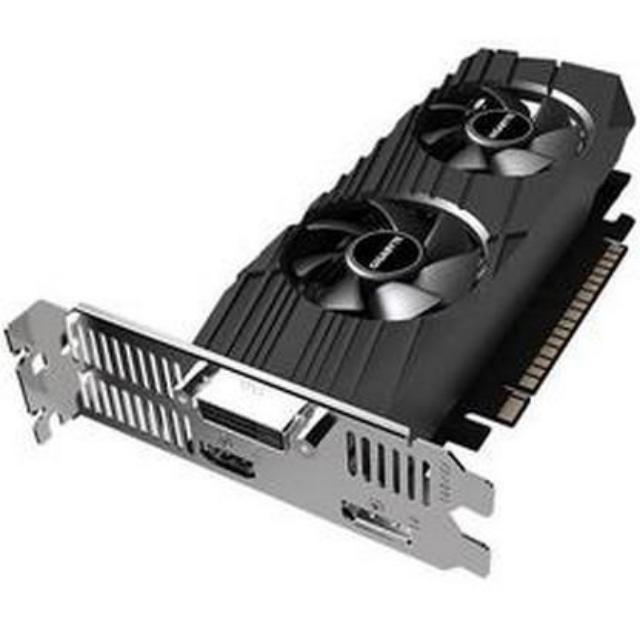GPU: (198, 48, 634, 534)
